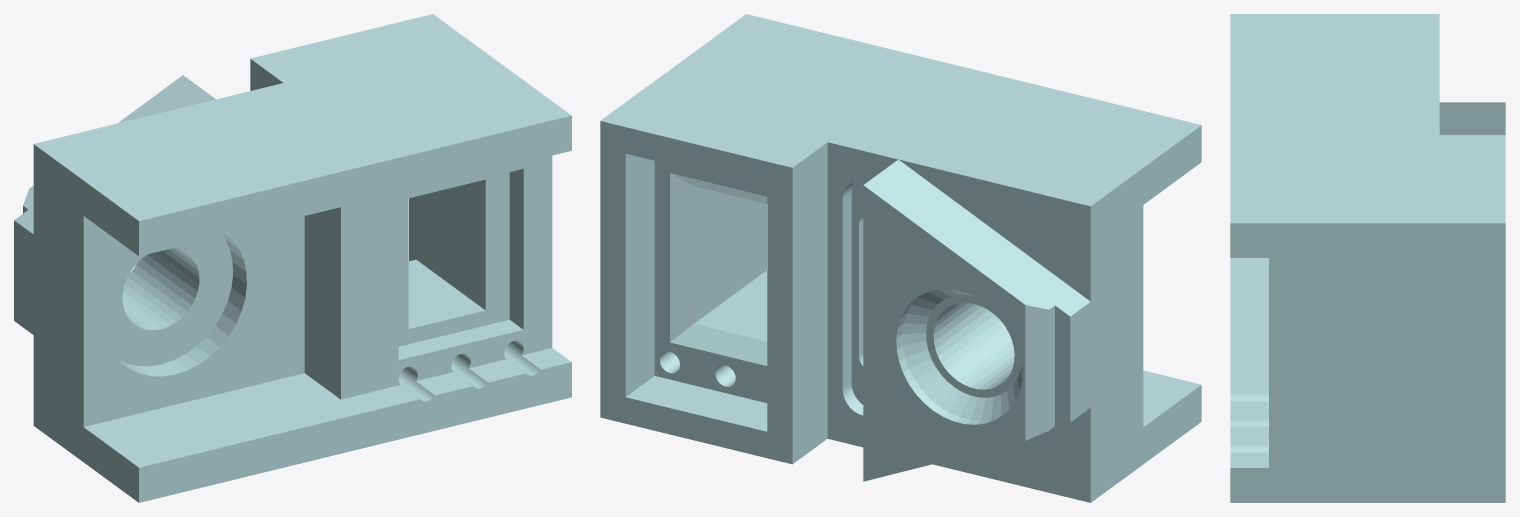
The model's file is model_full.glb.
3 renders of one model, left to right at view 1: azimuth 30°, elevation 25°; view 2: azimuth 150°, elevation 25°; view 3: azimuth 270°, elevation 25°, orthographic. The views are drawn at different scales.
Visible parts, largest first — view 1: model_full.stl; view 2: model_full.stl; view 3: model_full.stl.
Boxes of the visible parts, box(x1,y1,x2,y2) form: model_full.stl: box(14, 14, 571, 502); model_full.stl: box(600, 14, 1201, 502); model_full.stl: box(1230, 14, 1505, 502).
Size of the model in its own units: 90 by 56 by 50.
